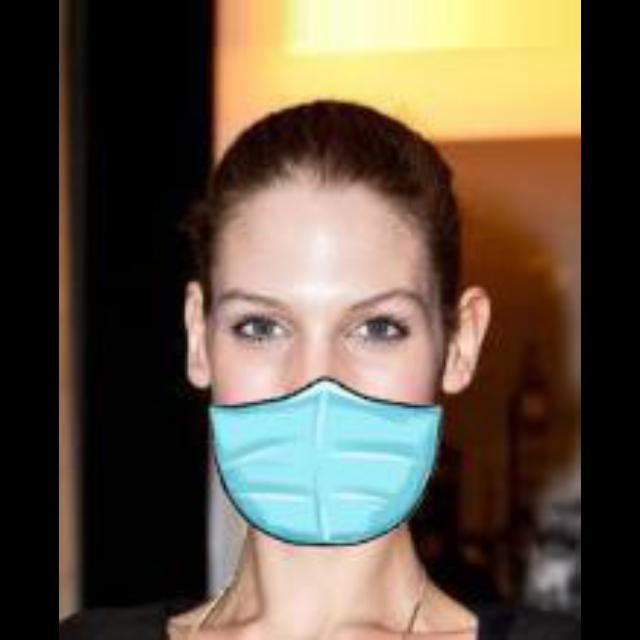suspicion: (190, 94, 474, 522)
